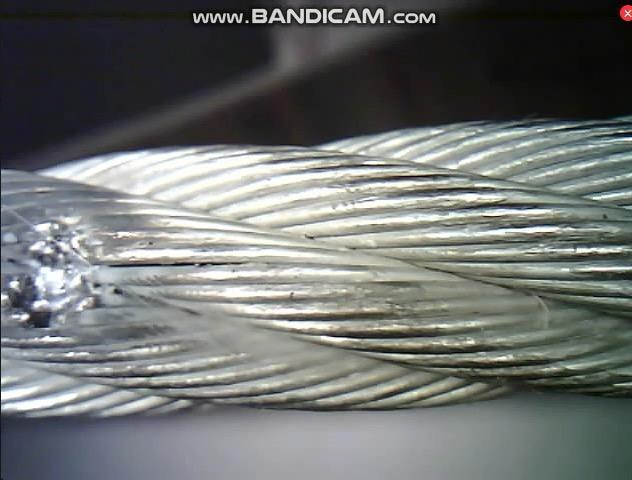thunderbolt: (0, 189, 142, 348)
